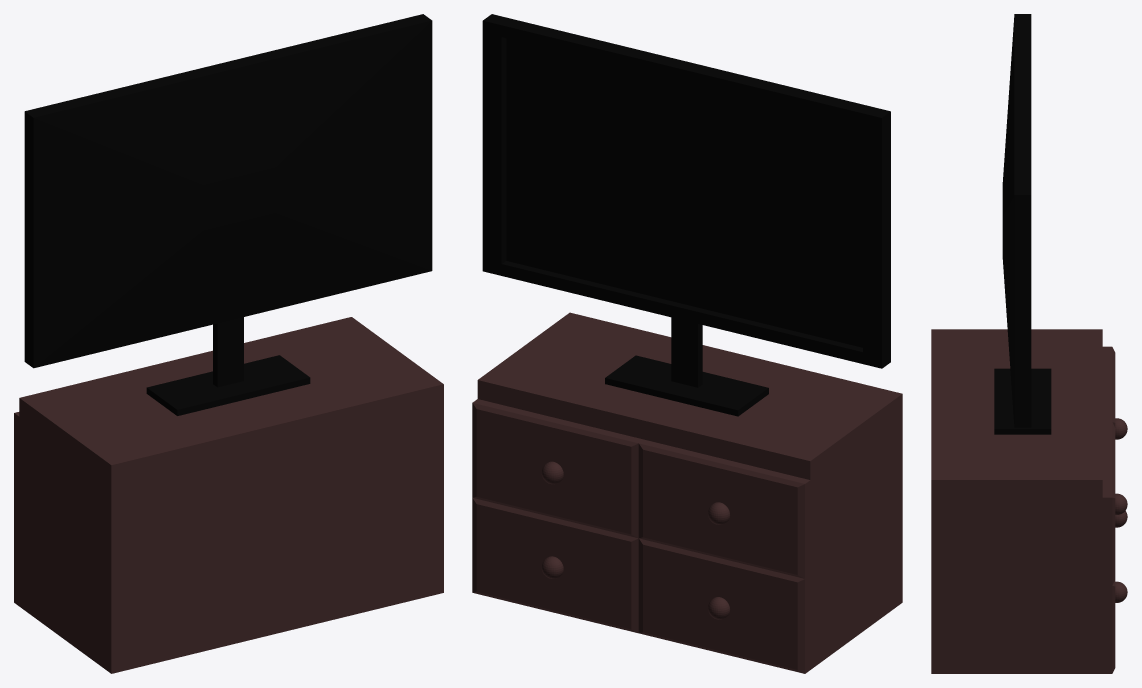
The picture shows the model from 3 angles, left to right: view 1: azimuth 30°, elevation 25°; view 2: azimuth 150°, elevation 25°; view 3: azimuth 270°, elevation 25°; orthographic projection. The views are drawn at different scales.
Visible parts, largest first — view 1: Cabinet, TV, Cube.055, Cube.056; view 2: Cabinet, TV, Cube.055, Cube.056; view 3: Cabinet, TV, Cube.055.
Part boxes in pixels (bbox=[...]): Cabinet: bbox=[14, 317, 443, 673]; TV: bbox=[24, 14, 432, 368]; Cube.055: bbox=[146, 355, 310, 415]; Cube.056: bbox=[213, 317, 243, 387]; Cabinet: bbox=[472, 312, 902, 673]; TV: bbox=[482, 14, 890, 368]; Cube.055: bbox=[605, 355, 768, 416]; Cube.056: bbox=[671, 317, 702, 387]; Cabinet: bbox=[931, 329, 1115, 673]; TV: bbox=[1002, 14, 1031, 427]; Cube.055: bbox=[994, 368, 1051, 434].
Bounding box in the file's own units: 300 × 382 × 138.
